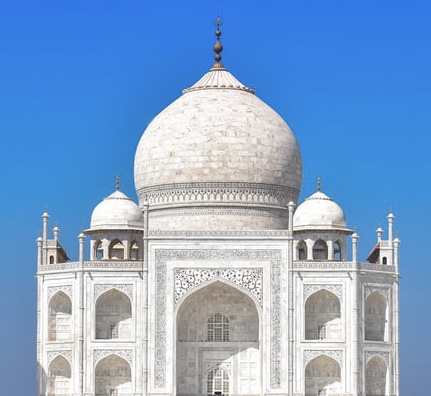Mosque: (16, 23, 408, 388)
